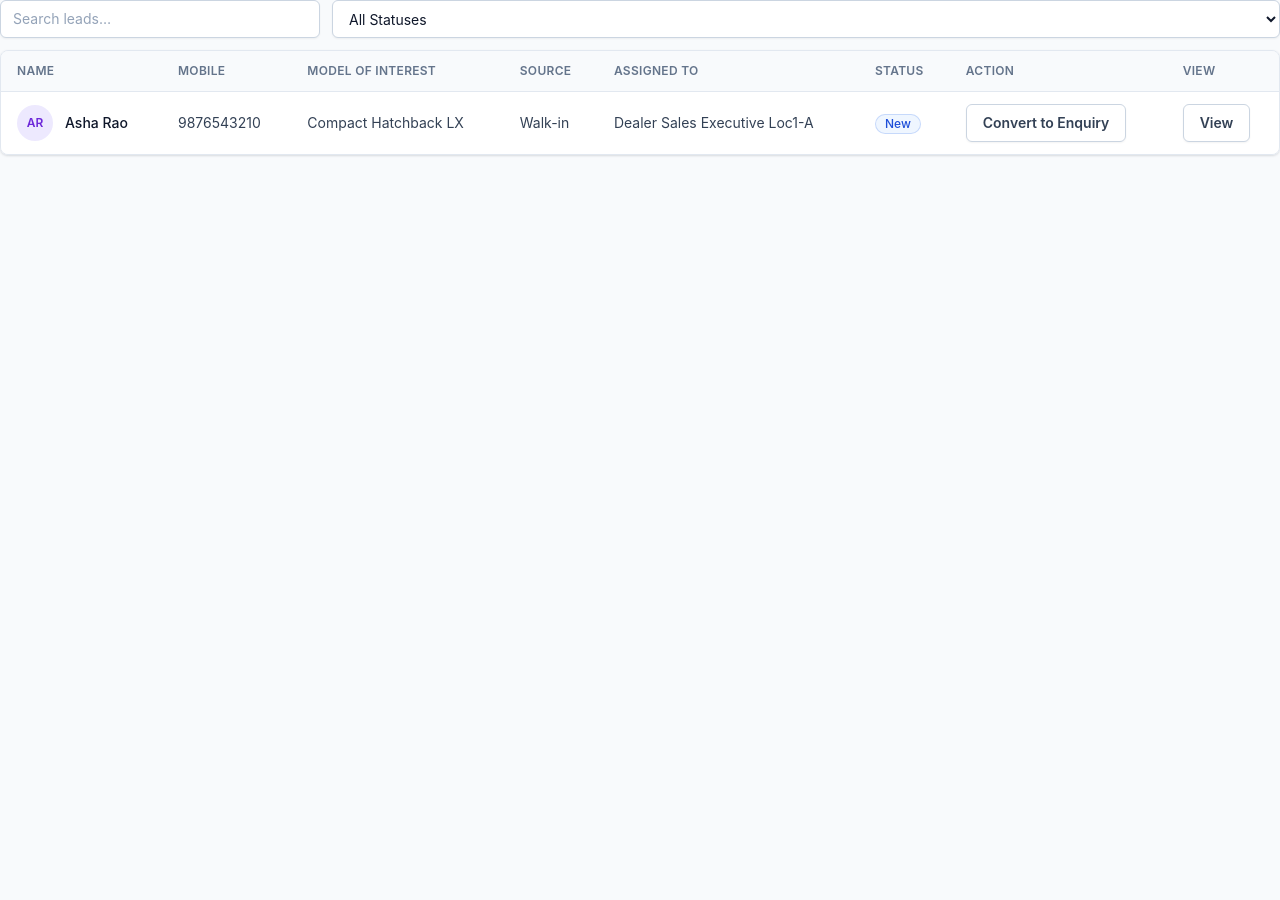
Test: LeadQueue — Convert to Enquiry slide-over panel (issue #132) › closing the panel via the close button removes it and leaves the queue intact
The image size is (1280, 900).
Click the button "Convert to Enquiry" at (1046, 123), box [966,104,1126,142]
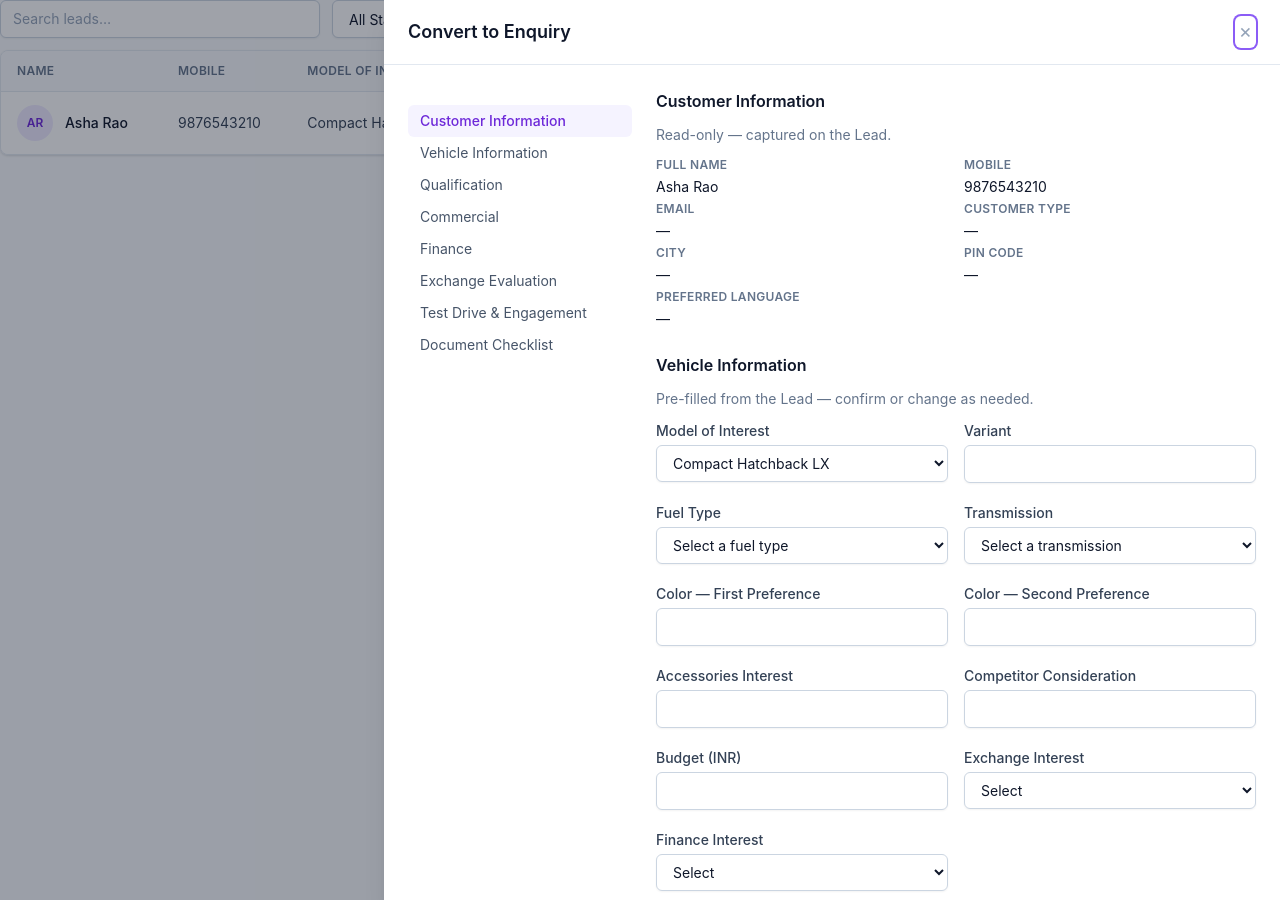
Now the dialog "Convert to Enquiry" is shown
Click the button named "close" at (1245, 32), box [1235,16,1256,48]
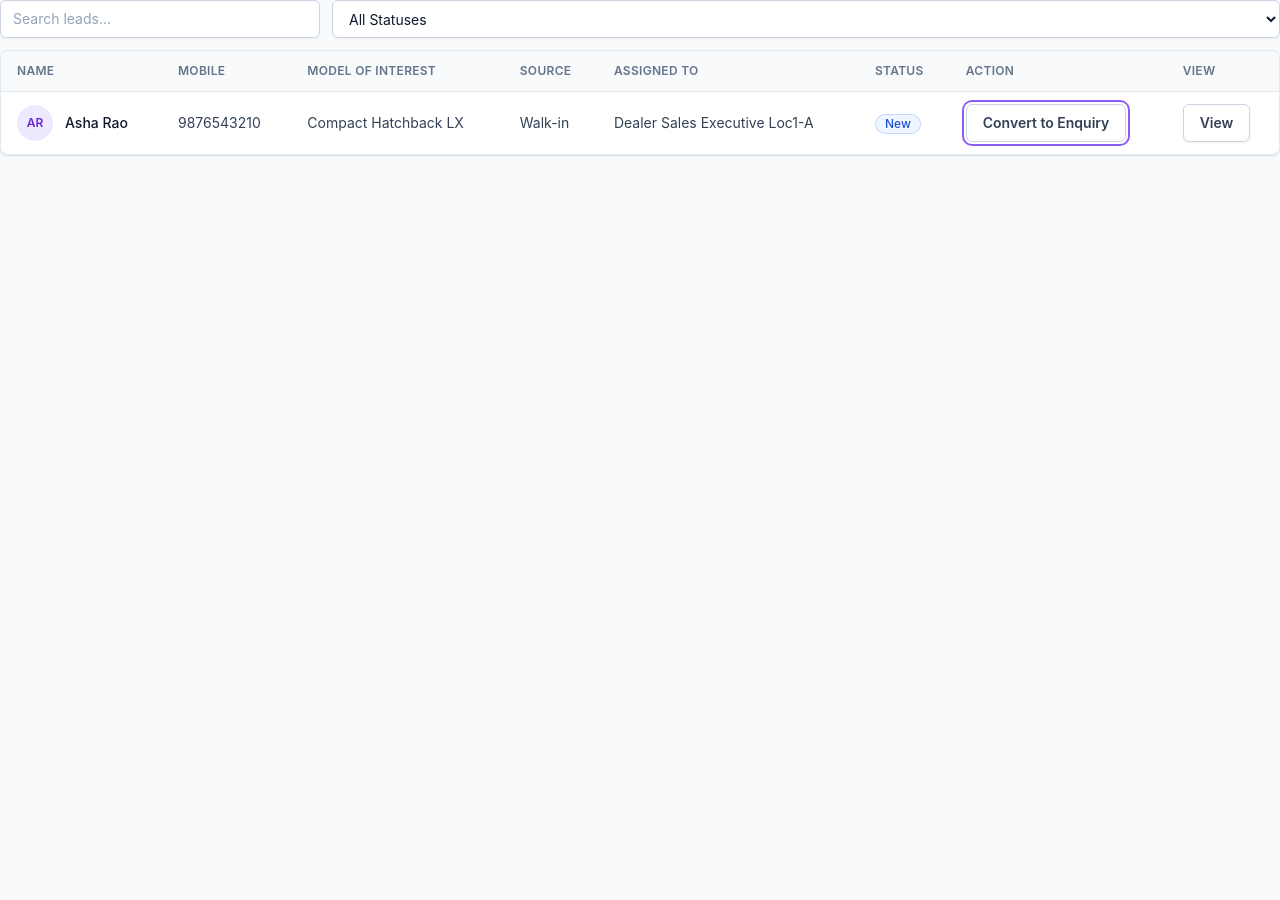
Expected: the text "Asha Rao" is shown, [65,113,128,133]
Now the dialog is gone
